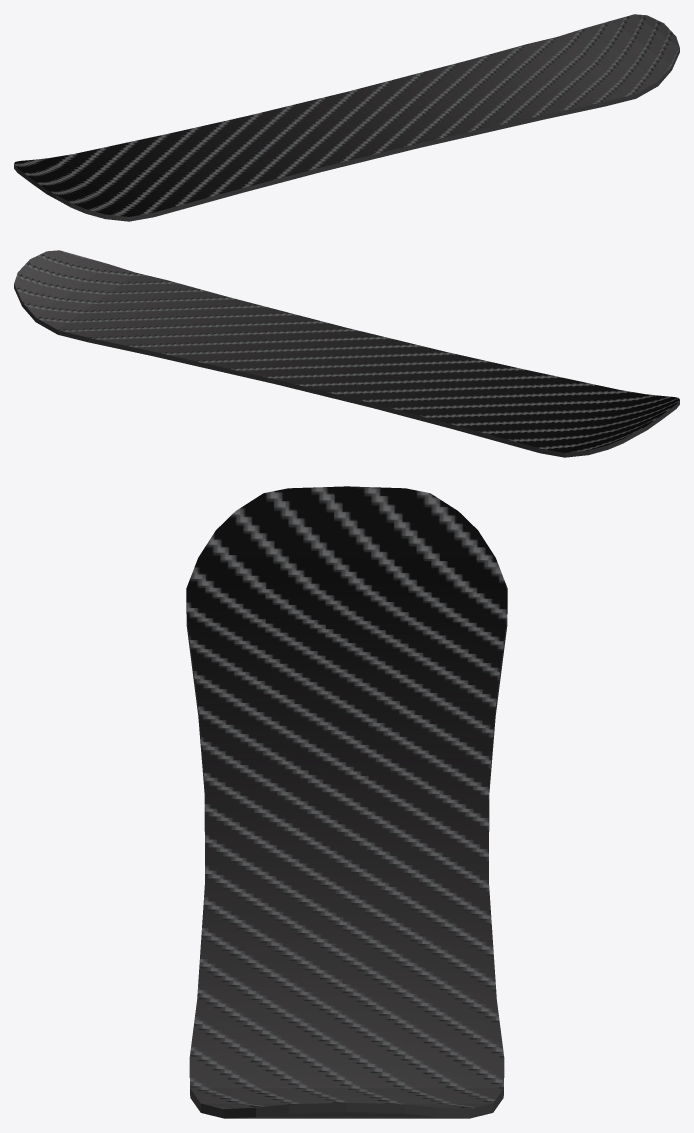
Rendered from Snowboard.fbx.
3 renders of one model, top to bottom at view 1: azimuth 30°, elevation 25°; view 2: azimuth 150°, elevation 25°; view 3: azimuth 270°, elevation 25°, orthographic. The views are drawn at different scales.
Visible parts, largest first — view 1: Snowboard; view 2: Snowboard; view 3: Snowboard.
Part boxes in pixels (x1,y1,x2,y2): Snowboard: (14,14,679,221); Snowboard: (14,250,679,457); Snowboard: (186,486,507,1118).
Bounding box in the file's own units: 353 × 16.16 × 77.62.
